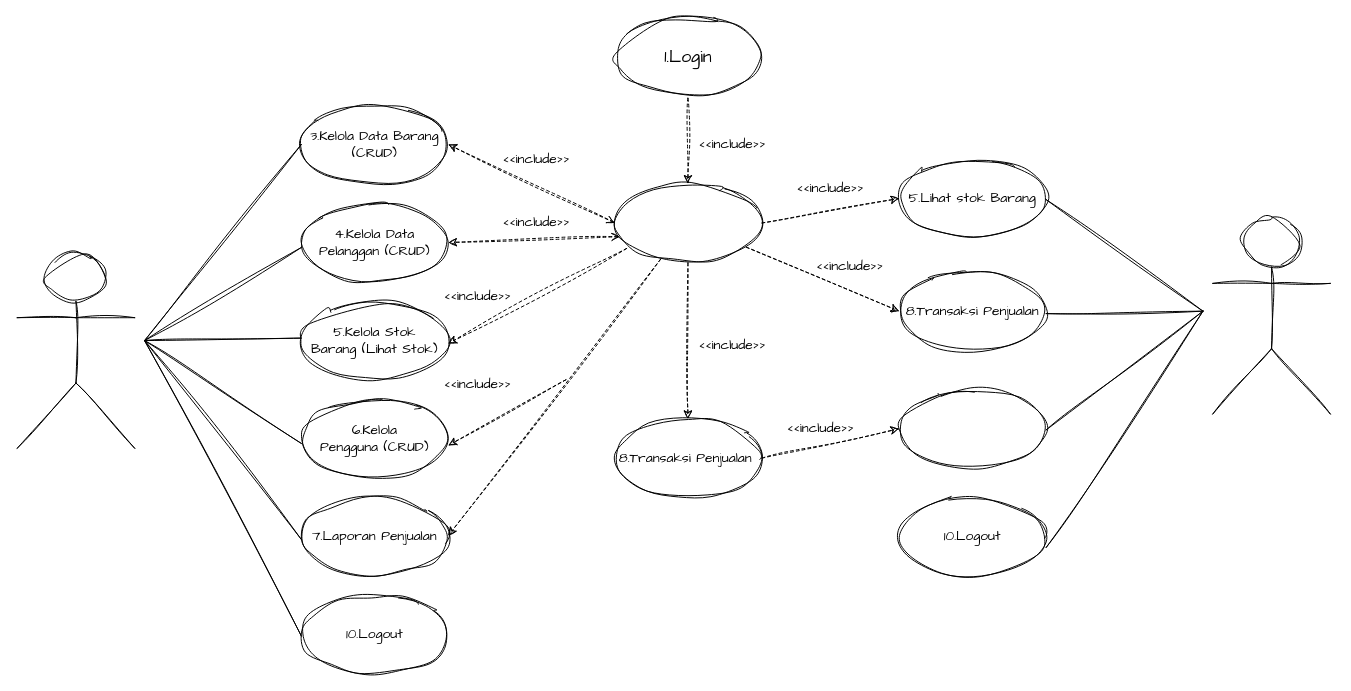
The diagram is 1351 pixels wide and 691 high, and some of its shapes have lost their labels. The shapes that lost their labels are listed below. From the top down, each one's box as (x1, y1, x2, y2) in pixels, then its label:
(614, 183, 762, 262): 2.Dashboard
(1212, 217, 1330, 414): Petugas / Kasir
(16, 251, 135, 448): Administrator
(898, 389, 1046, 468): 9.Detail Transaksi
